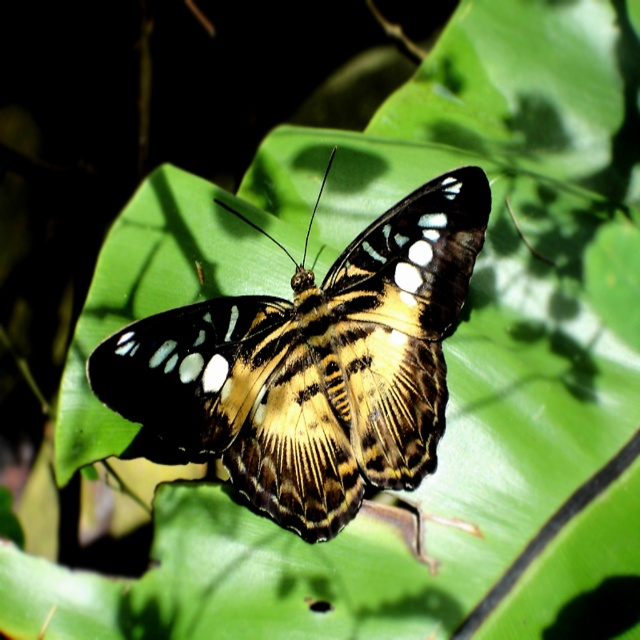Butterfly: (76, 137, 498, 547)
